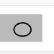no answer: (12, 20, 34, 38)
